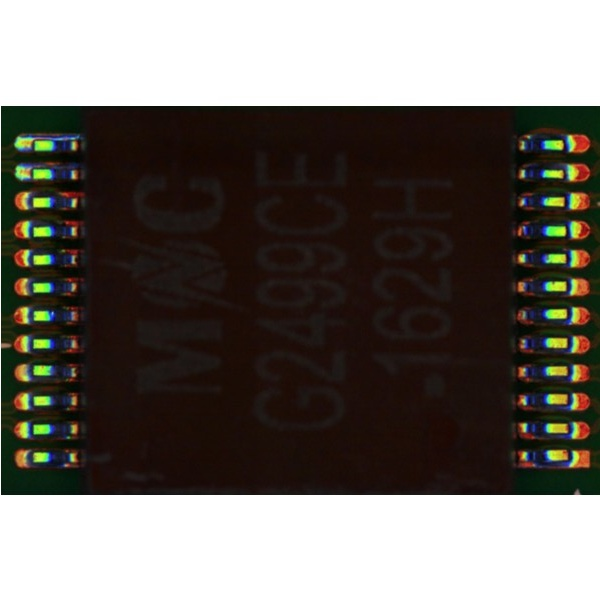Bad_podu: (25, 169, 37, 179), (27, 140, 37, 150)
Bad_qiaojiao: (33, 134, 81, 141)
